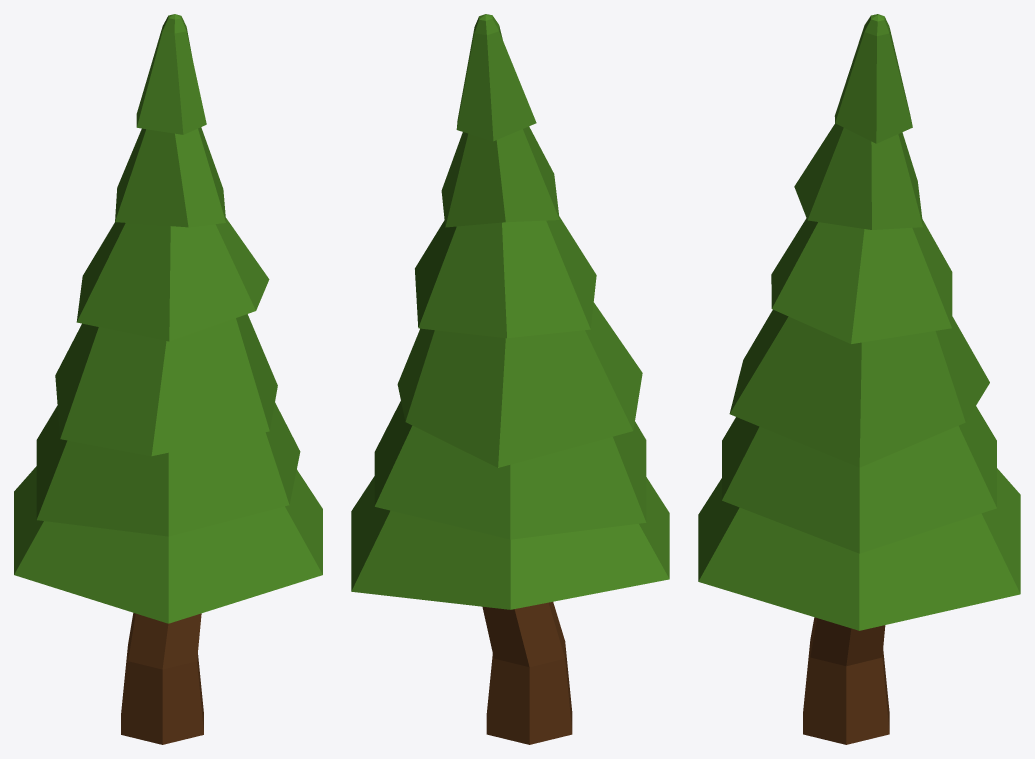
Rendered from Low Poly Pine 2.fbx.
The picture shows the model from 3 angles, left to right: view 1: azimuth 30°, elevation 25°; view 2: azimuth 150°, elevation 25°; view 3: azimuth 270°, elevation 25°; orthographic projection. The views are drawn at different scales.
Visible parts, largest first — view 1: Tree2; view 2: Tree2; view 3: Tree2.
Part boxes in pixels (x1=…): Tree2: x1=14, y1=14, x2=322, y2=744; Tree2: x1=351, y1=14, x2=669, y2=744; Tree2: x1=698, y1=14, x2=1020, y2=744.
Bounding box in the file's own units: 190 × 408 × 165.
